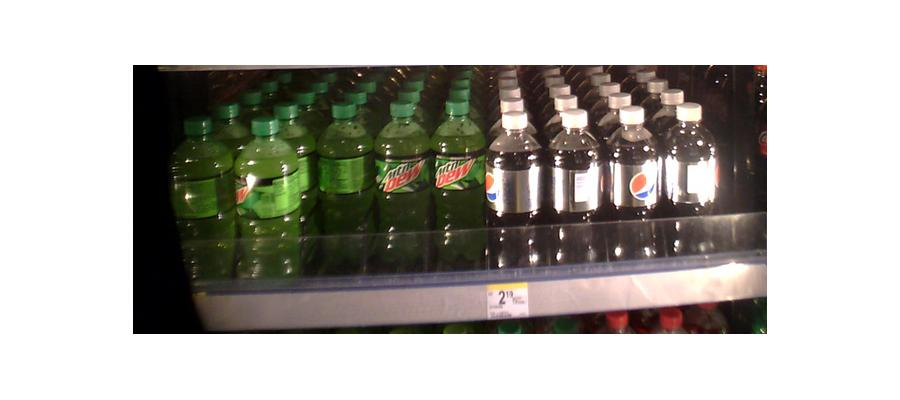bottle: (236, 111, 310, 282), (171, 115, 238, 296), (432, 84, 488, 264), (489, 91, 545, 267), (315, 103, 372, 272), (375, 103, 431, 268), (660, 97, 721, 248), (603, 105, 660, 260), (549, 106, 603, 267)
